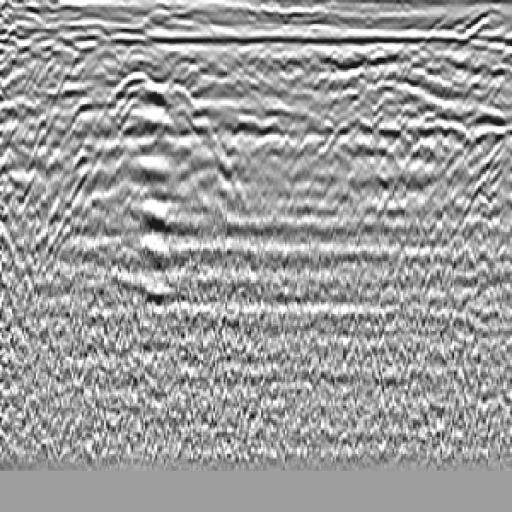metalic: (103, 49, 217, 151)
